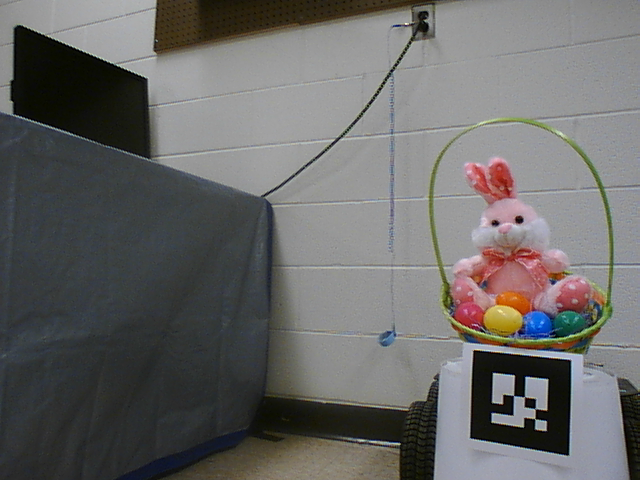bunny: (424, 114, 612, 363)
